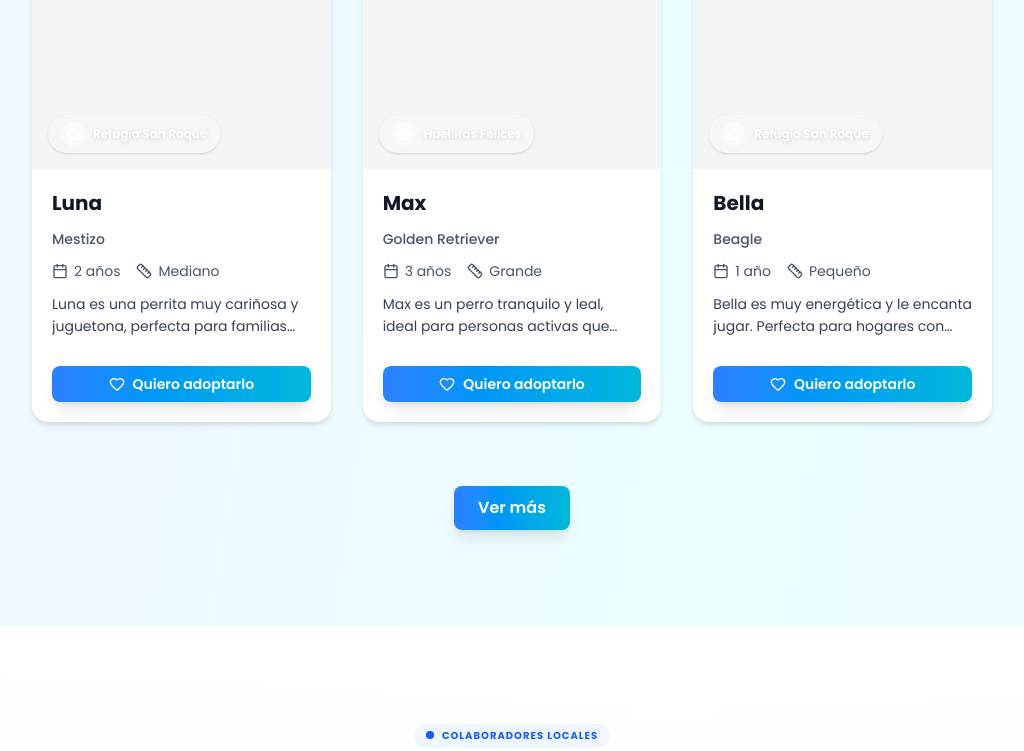
Home Page › correctly updates the selectedDog state when a dog card's adopt button is clicked
(page scrolled)
Click the first dog's (Luna) adopt button
Click the button "Quiero adoptarlo" below "2 años" at point(181, 384), box [52,366,311,402]
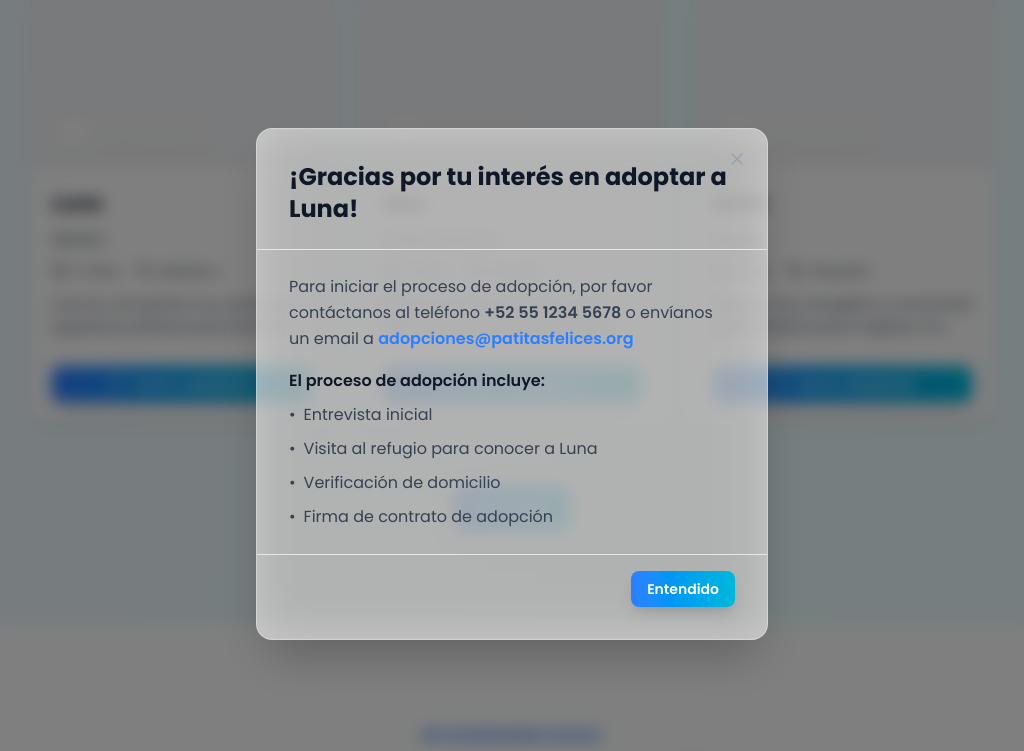
Expected: the heading "¡Gracias por tu interés en adoptar a Luna!" is shown, [289,161,735,225]
